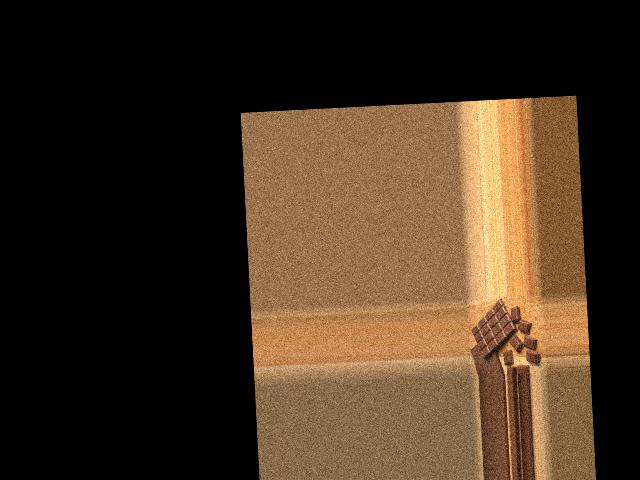chocolate: (469, 299, 520, 359)
